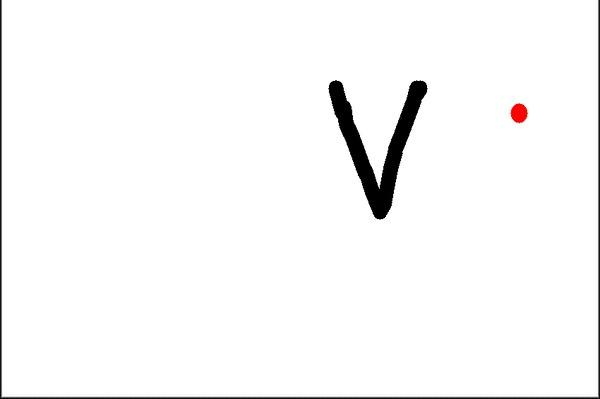V: (318, 58, 429, 225)
